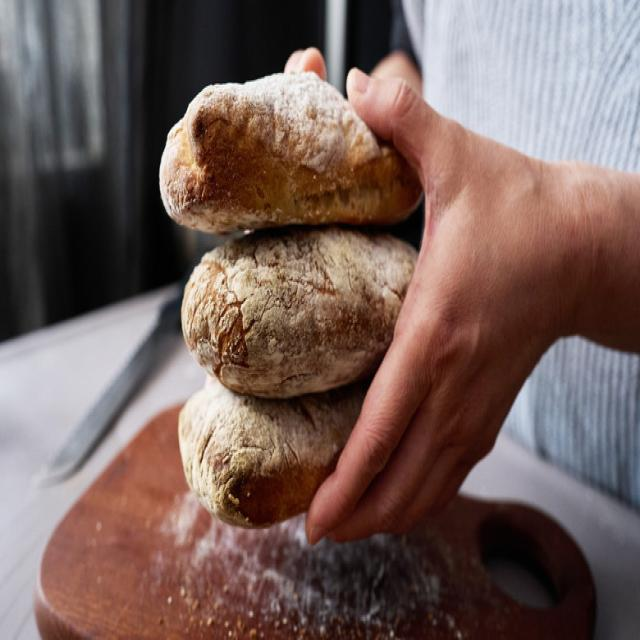Ciabatta: (160, 75, 420, 234), (181, 226, 417, 396), (179, 383, 363, 526)
